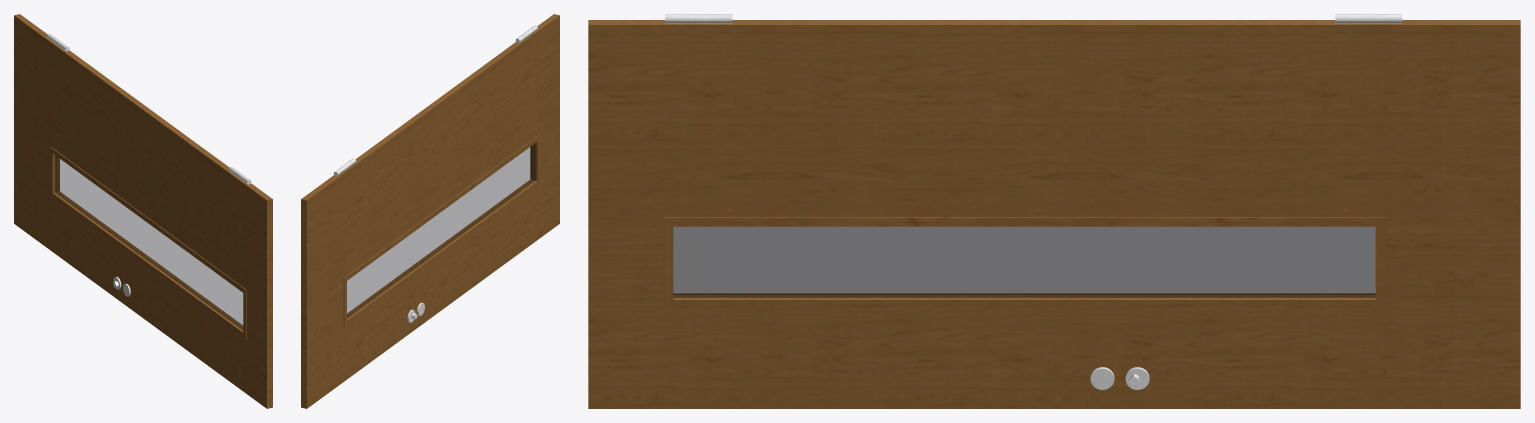
The model's file is DoorPart02.obj.
3 renders of one model, left to right at view 1: azimuth 30°, elevation 25°; view 2: azimuth 150°, elevation 25°; view 3: azimuth 270°, elevation 25°, orthographic. The views are drawn at different scales.
Visible parts, largest first — view 1: DoorPart2; view 2: DoorPart2; view 3: DoorPart2.
Boxes of the visible parts, <box> form: DoorPart2: <box>14,14,272,408</box>; DoorPart2: <box>301,14,559,408</box>; DoorPart2: <box>588,14,1520,408</box>.
Size of the model in its own units: 0.0726 by 1.01 by 2.17.
3 materials, 2 textured.
